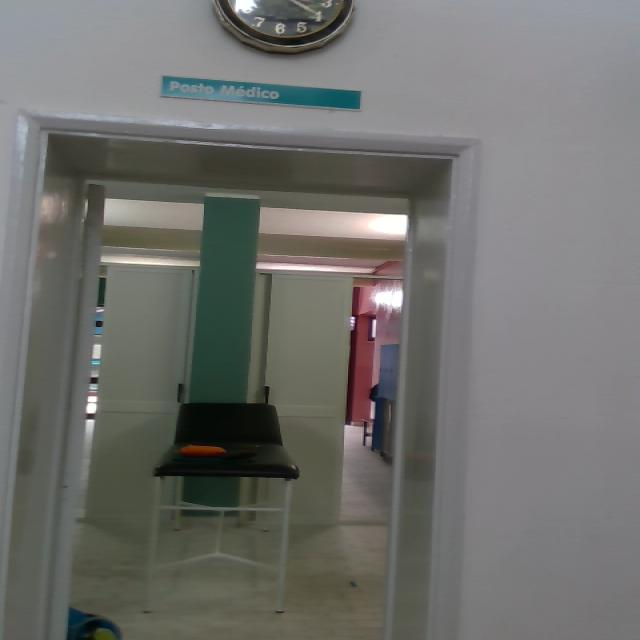open: (1, 105, 498, 639)
